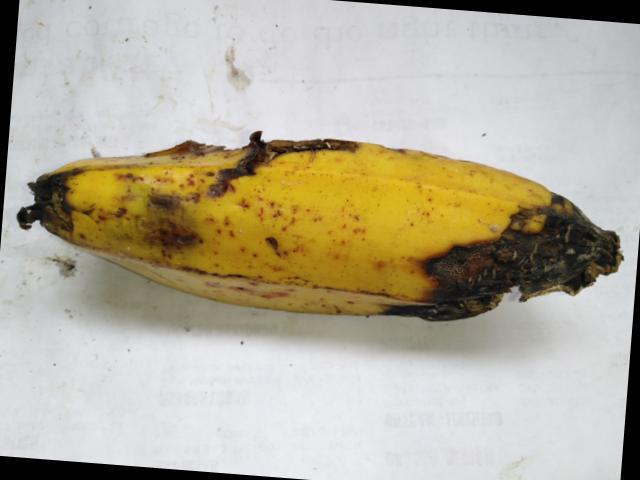rotten: (382, 156, 639, 337), (155, 97, 371, 204), (105, 176, 221, 292), (10, 122, 115, 242)
